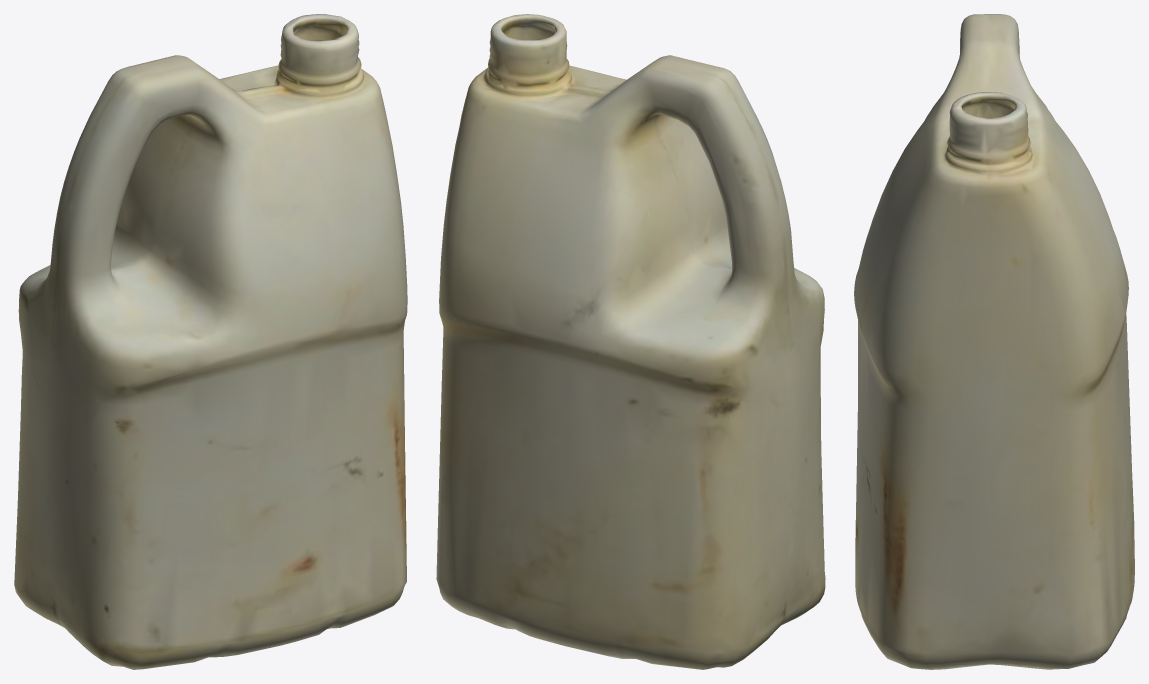
File: plastic_bottle_gallon.glb
The picture shows the model from 3 angles, left to right: view 1: azimuth 30°, elevation 25°; view 2: azimuth 150°, elevation 25°; view 3: azimuth 270°, elevation 25°; orthographic projection.
Parts seen in each view (by area): view 1: plastic_bottle_gallon; view 2: plastic_bottle_gallon; view 3: plastic_bottle_gallon.
Boxes of the visible parts, box(x1,y1,x2,y2) form: plastic_bottle_gallon: box(14, 14, 407, 669); plastic_bottle_gallon: box(436, 14, 825, 669); plastic_bottle_gallon: box(854, 14, 1134, 669).
Size of the model in its own units: 0.1661 by 0.2745 by 0.1263.
Materials: 1 (1 with a texture image).
